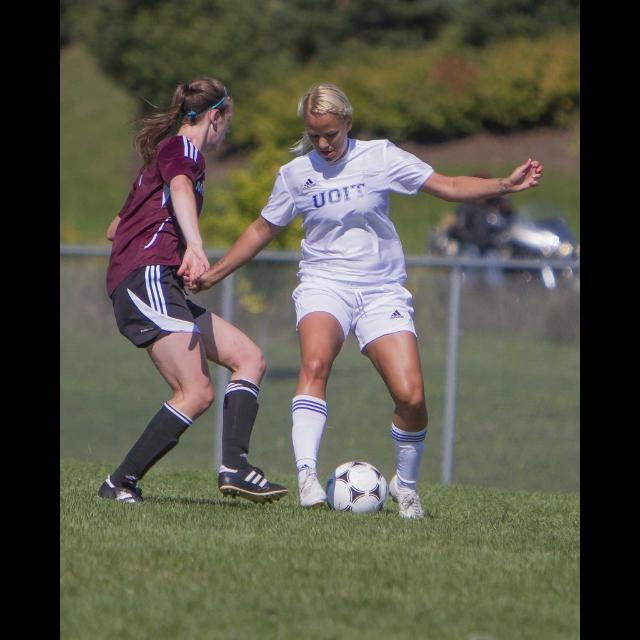Football: (324, 458, 388, 509)
